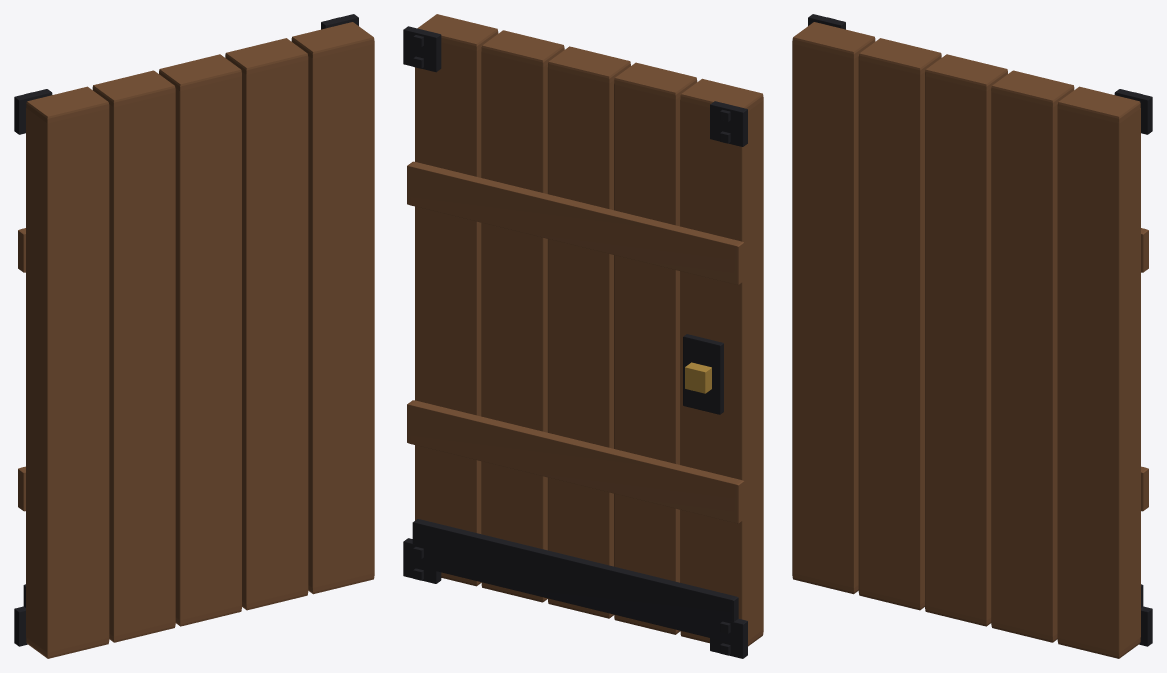
Rendered from door.obj.
3 renders of one model, left to right at view 1: azimuth 30°, elevation 25°; view 2: azimuth 150°, elevation 25°; view 3: azimuth 330°, elevation 25°, orthographic.
Visible parts, largest first — view 1: Door; view 2: Door; view 3: Door.
Part boxes in pixels (left/top/right/bottom): Door: left=14, top=14, right=374, bottom=658; Door: left=403, top=14, right=763, bottom=658; Door: left=792, top=14, right=1152, bottom=658.
Size of the model in its own units: 1.64 by 2.52 by 0.28.
